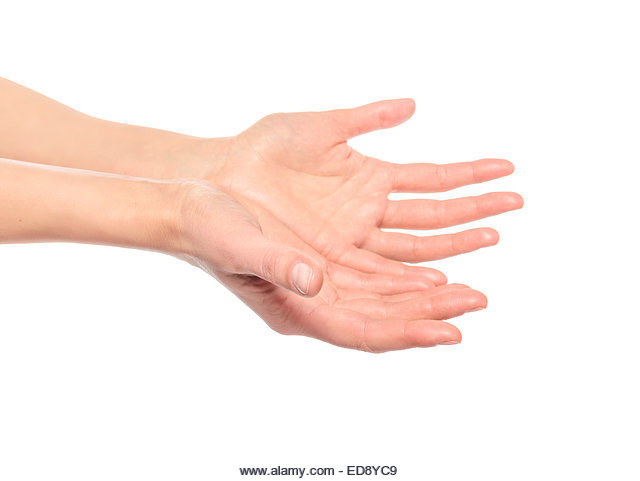non-diseased: (192, 81, 530, 366)
